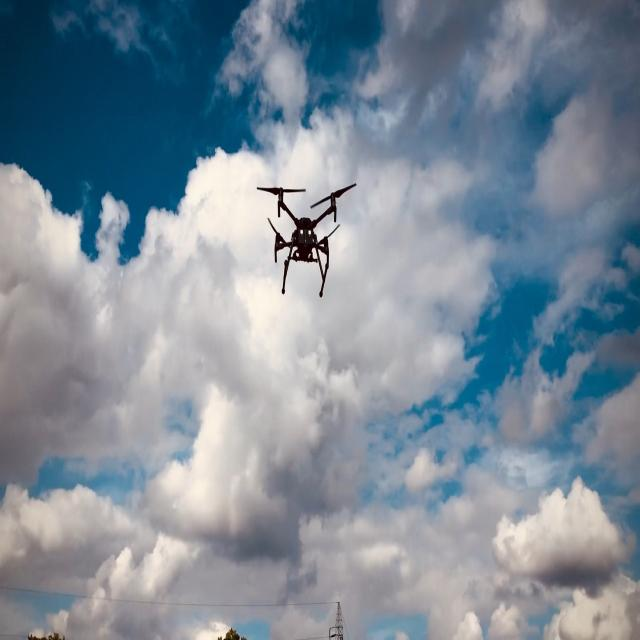drone: (256, 181, 356, 298)
